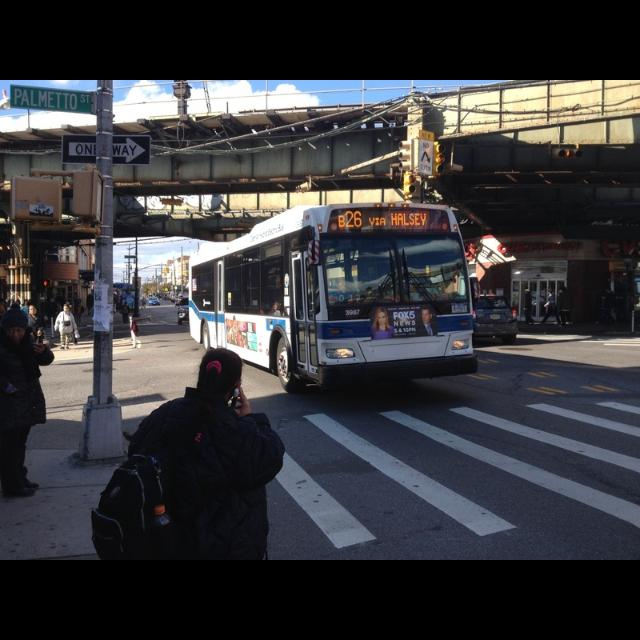head: (198, 348, 244, 406), (4, 309, 28, 345), (110, 290, 120, 316), (29, 304, 39, 316), (64, 306, 70, 314), (525, 289, 531, 295), (130, 317, 136, 323), (49, 298, 55, 304), (68, 305, 74, 311), (548, 289, 552, 295), (124, 302, 128, 306), (89, 295, 93, 299)
person: (0, 306, 56, 496), (22, 303, 46, 361), (54, 303, 80, 351), (25, 298, 47, 346), (540, 288, 562, 328), (64, 302, 80, 348), (521, 288, 535, 326), (128, 316, 142, 350), (45, 296, 59, 328), (119, 301, 131, 325), (110, 290, 120, 316), (86, 294, 96, 318)
